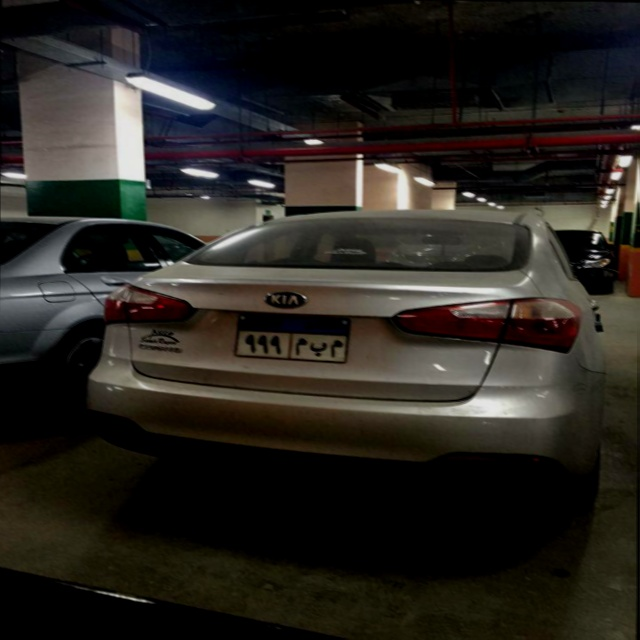License Plate: (233, 313, 351, 364)
